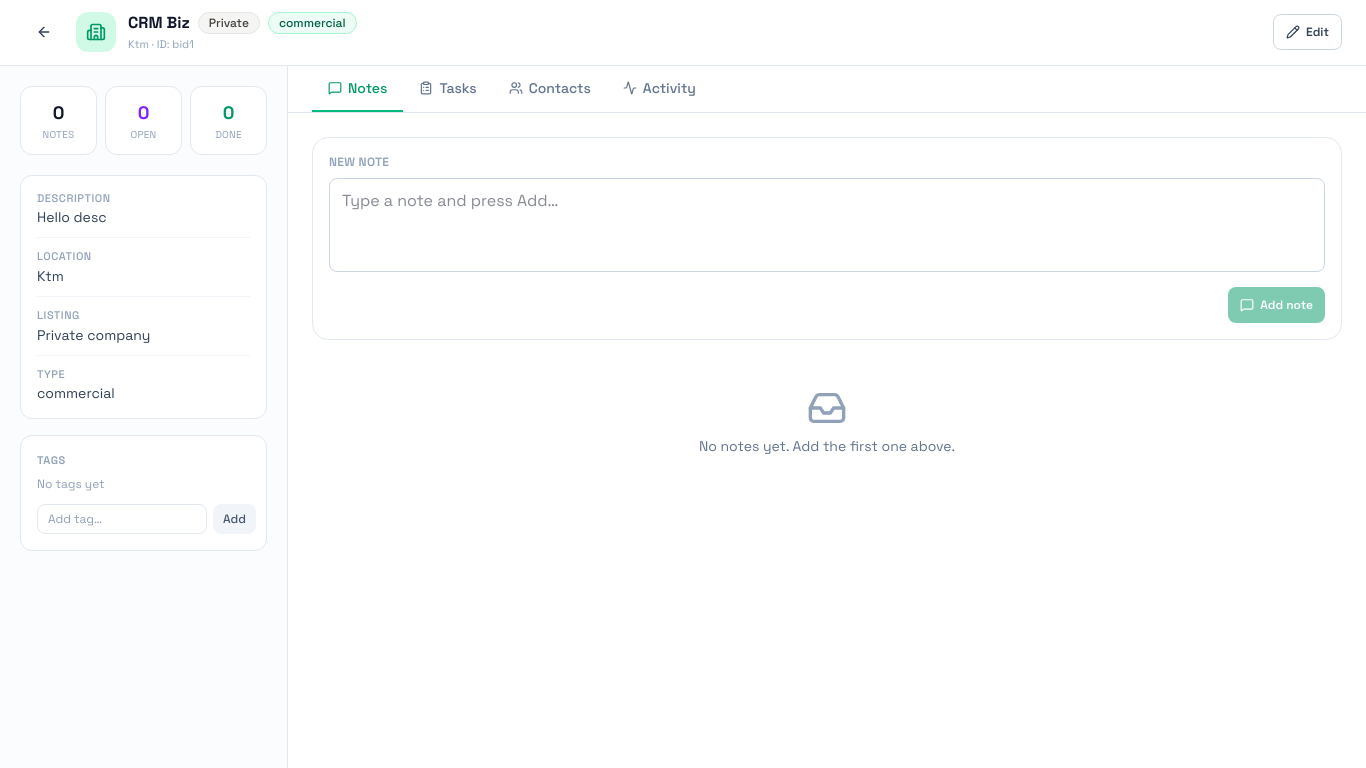
BusinessDetailPage › Cancel closes dialog without saving
Click the button "Edit".
click(1308, 32)  # box top-left (1273, 14), bottom-right (1342, 50)
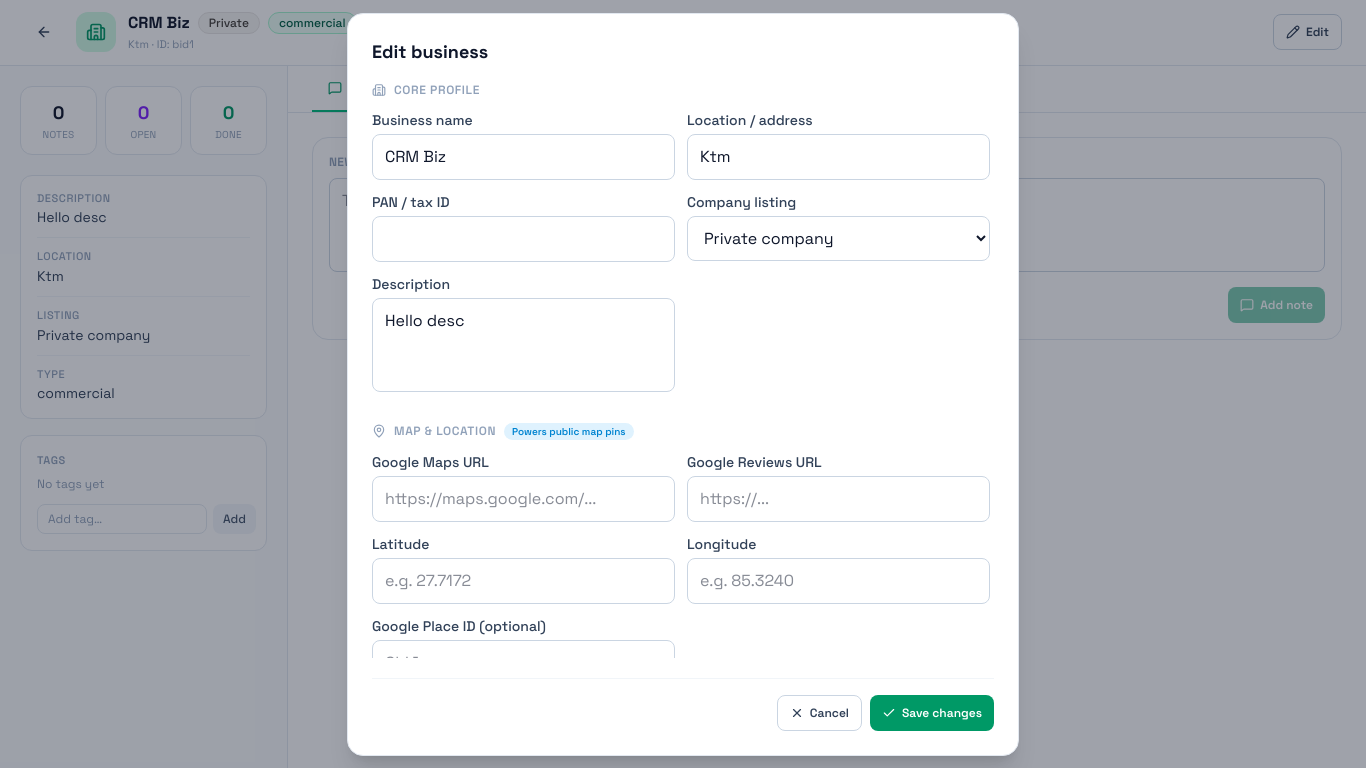
Click the button "Cancel".
click(819, 712)  # box top-left (777, 694), bottom-right (862, 730)
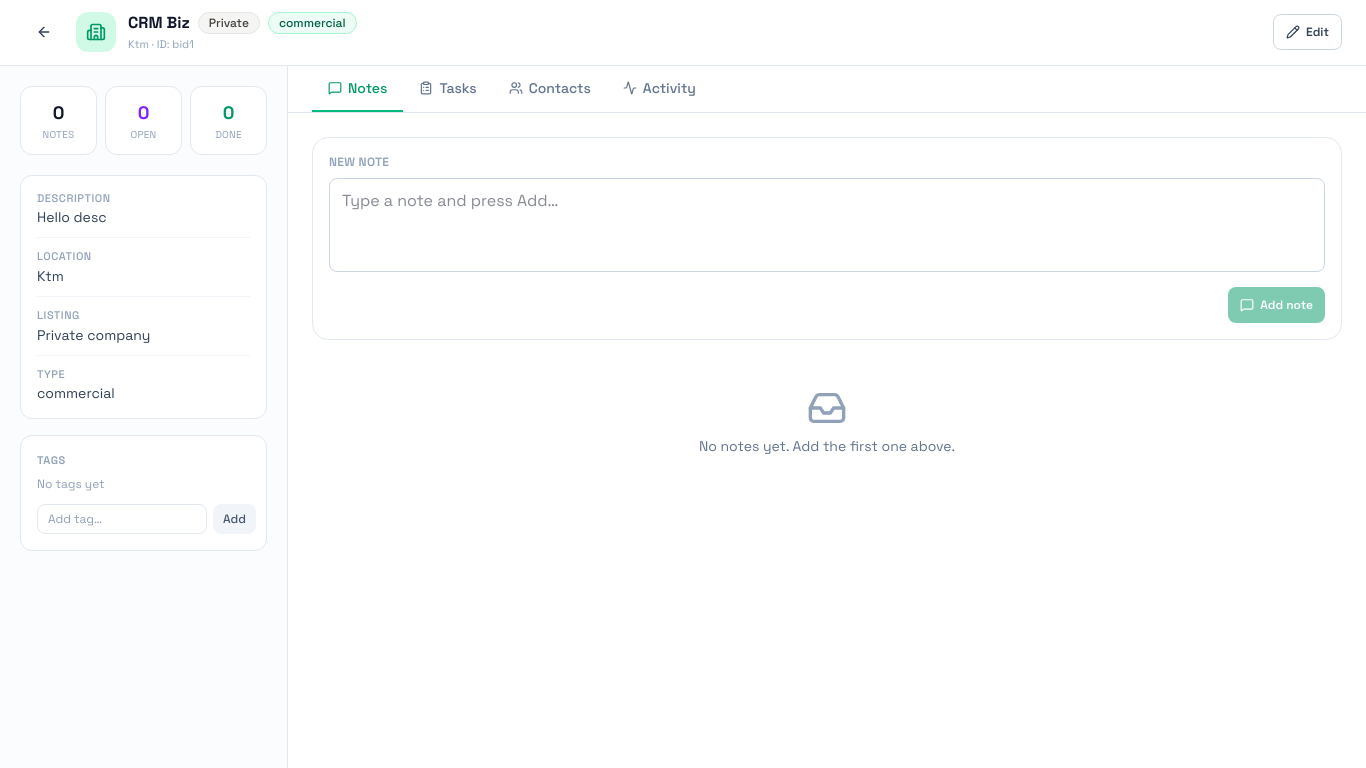
Now the dialog is gone
